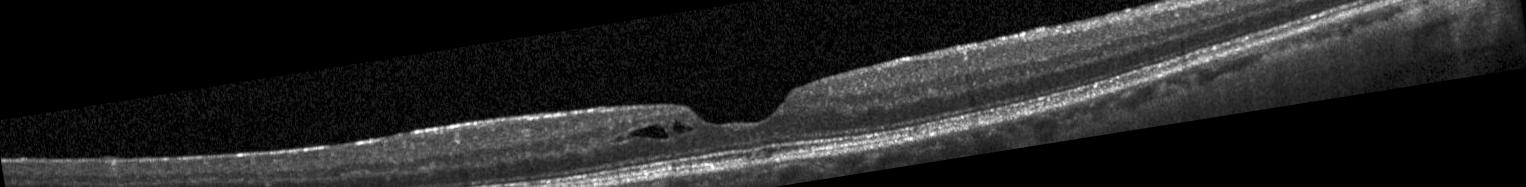intraretinal_cyst: (610, 122, 669, 142), (672, 119, 694, 139)
lamellar_macular_rupture: (689, 90, 792, 124)
